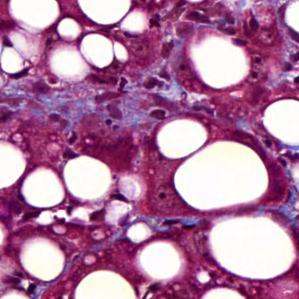steatosis: (61, 152, 115, 201), (156, 115, 208, 162), (20, 166, 64, 208), (83, 27, 120, 66)
